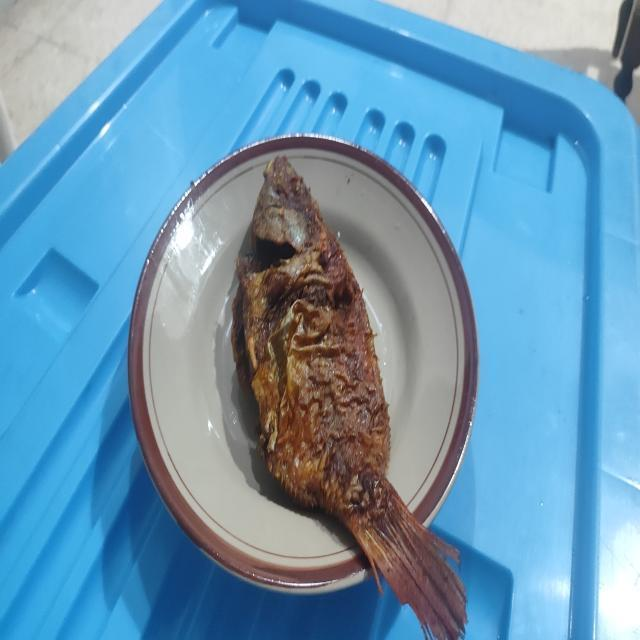ikan_mujair: (232, 156, 468, 640)
